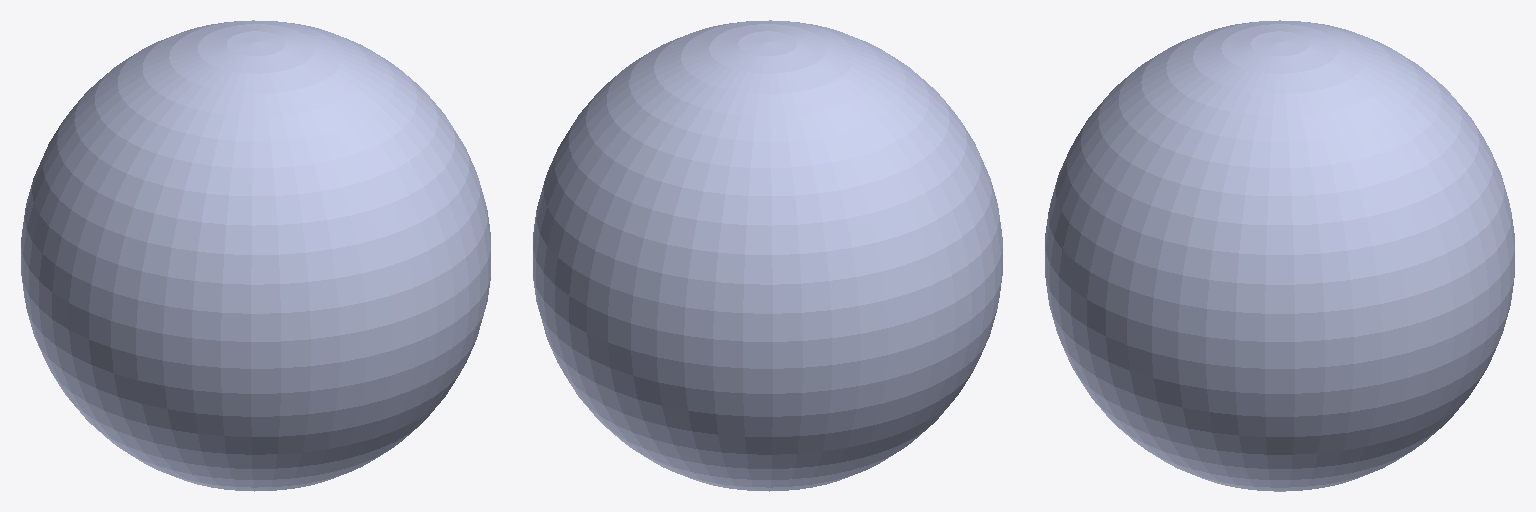
The robot description file, URDF, robot "ball":
<?xml version="1.0" encoding="utf-8"?>
<!-- This URDF was automatically created by SolidWorks to URDF Exporter! Originally created by [author] ([email redacted]) 
     Commit Version: 1.6.0-4-g7f85cfe  Build Version: 1.6.7995.38578
     For more information, please see http://wiki.ros.org/sw_urdf_exporter -->
<robot
  name="ball">
  <link
    name="base_link">
    <inertial>
      <origin
        xyz="0.0 0.0 0.0"
        rpy="0 0 0" />
      <mass
        value="0.6" />
      <inertia
        ixx="0.006"
        ixy="0.0"
        ixz="0.0"
        iyy="0.006"
        iyz="0.0"
        izz="0.006" />
    </inertial>
    <visual>
      <origin
        xyz="0 0 0"
        rpy="0 0 0" />
      <geometry>
        <mesh
          filename="package://ball/meshes/base_link.STL" />
      </geometry>
      <material
        name="">
        <color
          rgba="0.792156862745098 0.819607843137255 0.933333333333333 1" />
      </material>
    </visual>
    <collision>
      <origin
        xyz="0 0 0"
        rpy="0 0 0" />
      <geometry>
        <mesh
          filename="package://ball/meshes/base_link.STL" />
      </geometry>
    </collision>
  </link>
</robot>

--- What the picture shows (computed from the rendered views, not written in the file) ---
3 views of the same robot in one strip: view 1: azimuth 30°, elevation 25°; view 2: azimuth 150°, elevation 25°; view 3: azimuth 270°, elevation 25° (orthographic).
Model ball with 1 links and 0 joints (none), rooted at base_link, posed all joints at 0.
Visible links, largest first — view 1: base_link; view 2: base_link; view 3: base_link.
Boxes of the visible links, x1,y1,x2,y2 form: base_link: [21, 20, 490, 491]; base_link: [533, 20, 1002, 491]; base_link: [1045, 20, 1514, 491].
Size in the robot's own frame: 0.2453 by 0.2454 by 0.246 metres.
Meshes: 1 distinct files referenced, 1 mesh visuals loaded (1 binary STL).